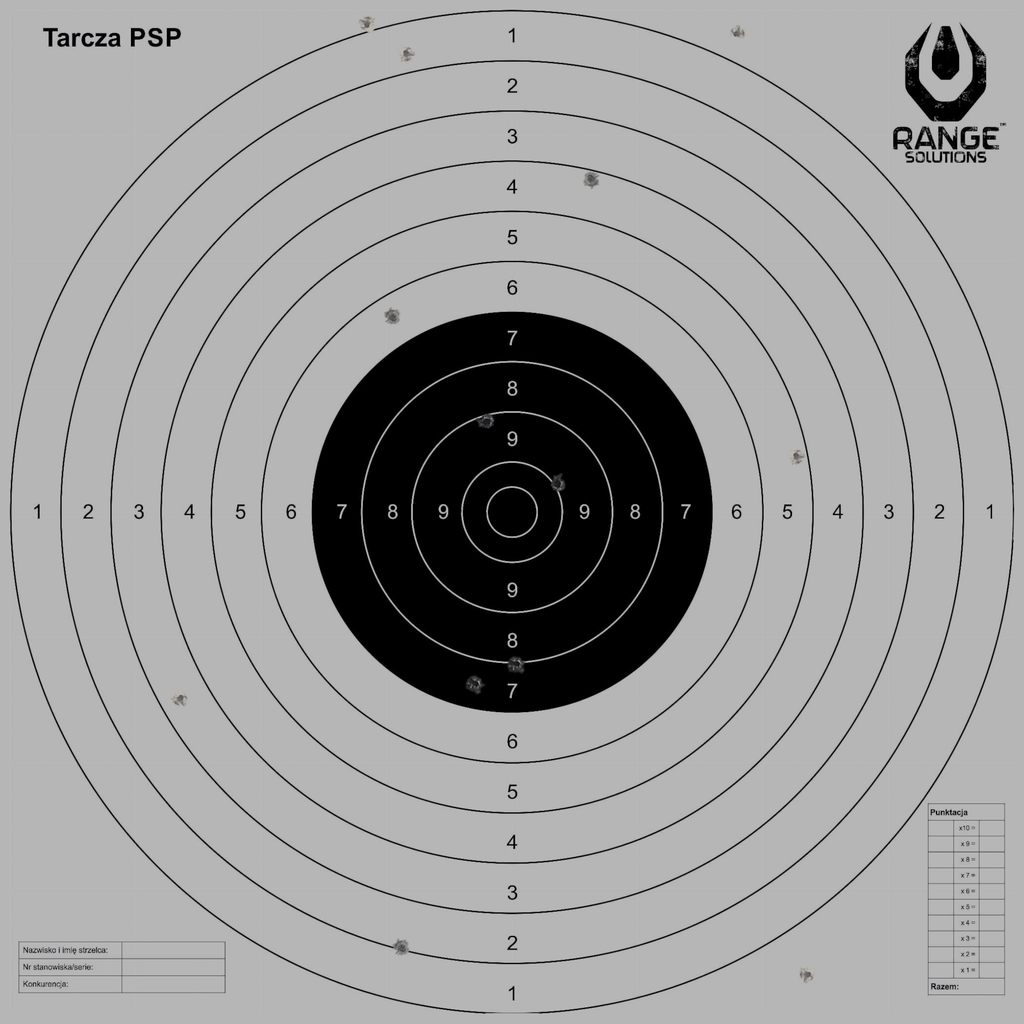0 punktow: (798, 966, 817, 984)
1 punkt: (397, 44, 416, 63)
10 punktow: (549, 474, 567, 493)
2 punkty: (393, 939, 411, 957)
3 punkty: (171, 689, 190, 708)
4 punkty: (582, 170, 600, 188)
5 punktow: (787, 447, 806, 465)
6 punktow: (383, 308, 402, 326)
7 punktow: (466, 675, 485, 693)
8 punktow: (508, 655, 526, 673)
9 punktow: (477, 412, 496, 431)
